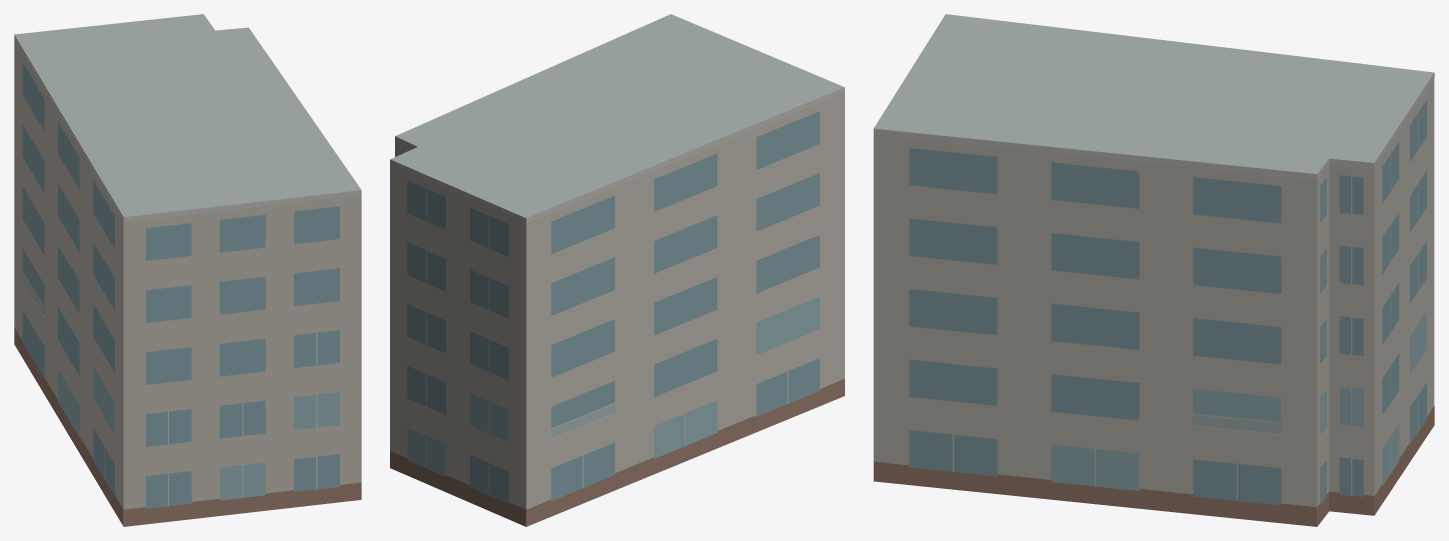
Rendered from survey-upis-33045043.glb.
3 views of the same model, side by side, from view 1: azimuth 30°, elevation 25°; view 2: azimuth 150°, elevation 25°; view 3: azimuth 270°, elevation 25° (orthographic). The views are drawn at different scales.
Visible parts, largest first — view 1: survey-upis-33045043.tmp; view 2: survey-upis-33045043.tmp; view 3: survey-upis-33045043.tmp.
Boxes of the visible parts, box(x1,y1,x2,y2) form: survey-upis-33045043.tmp: box(14, 14, 361, 526); survey-upis-33045043.tmp: box(390, 14, 844, 526); survey-upis-33045043.tmp: box(873, 14, 1434, 526).
Size of the model in its own units: 14.86 by 15.25 by 21.99.
